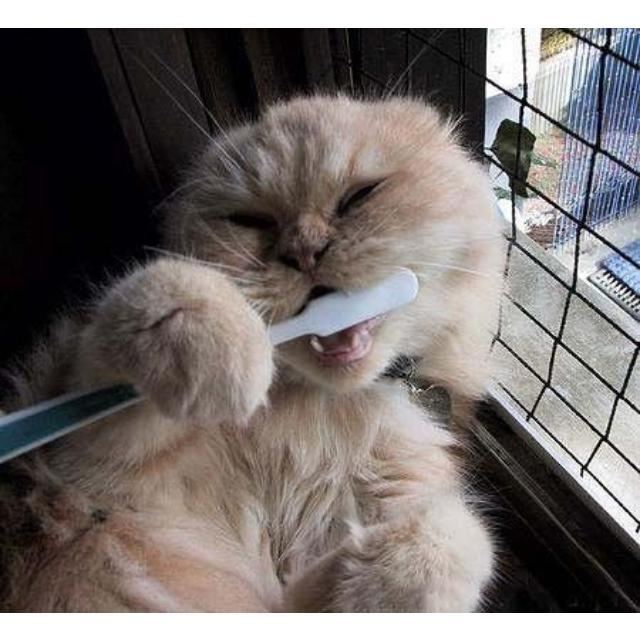toothbrush: (0, 270, 418, 464)
